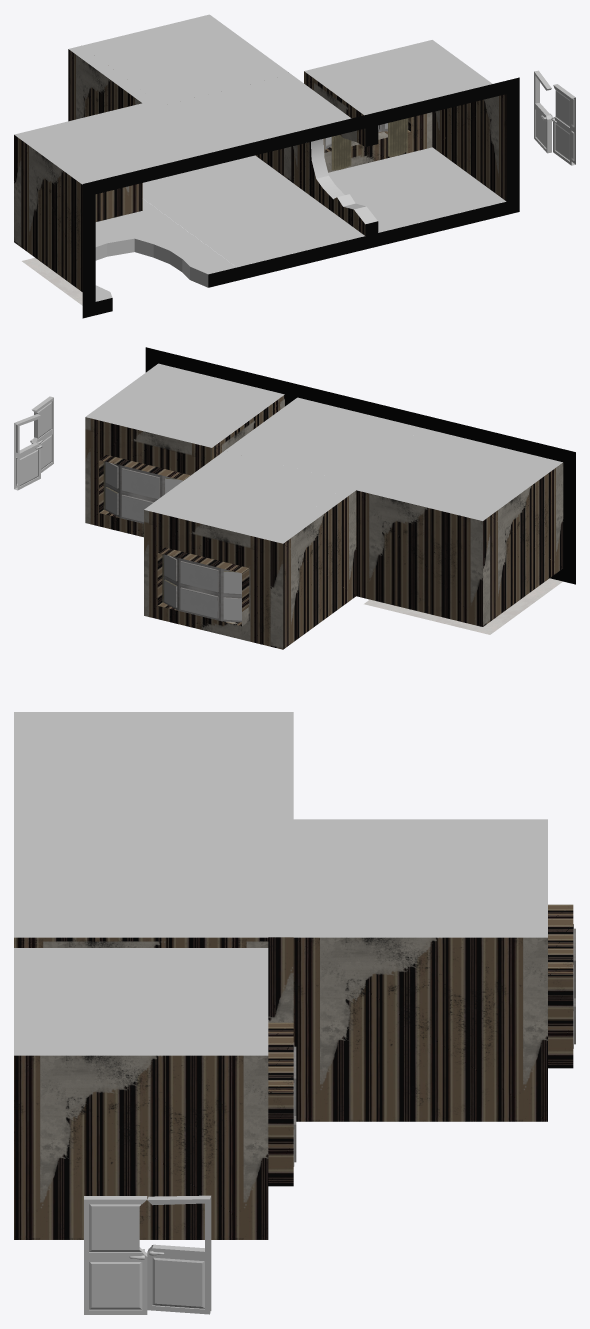
The model's file is Ruined Structures.fbx.
3 renders of one model, top to bottom at view 1: azimuth 30°, elevation 25°; view 2: azimuth 150°, elevation 25°; view 3: azimuth 270°, elevation 25°, orthographic. The views are drawn at different scales.
Parts seen in each view (by area): view 1: Ceiling_hotelroom.027, Floor_hotelroom.031, Floor_hotelroom.033, Ceiling_hotelroom.026, Ceiling_hotelroom.029, Ceiling_hotelroom.028, Wall_Hotelroom.049, Wall_Hotelroom.054, Ceiling_hotelroom.034, Wall_Hotelroom.062, Floor_hotelroom.032, Wall_Window_hotelroom.015 (+21 smaller); view 2: Wall_Window_hotelroom.012, Wall_Hotelroom.048, Wall_Window_hotelroom.015, Ceiling_hotelroom.027, Ceiling_hotelroom.028, Ceiling_hotelroom.029, Ceiling_hotelroom.026, Wall_Hotelroom.050, Wall_Hotelroom.049, Wall_mainfloor.039, Ceiling_hotelroom.034, Transition_Floor.093 (+10 smaller); view 3: Wall_Hotelroom.051, Wall_Hotelroom.054, Ceiling_hotelroom.027, Ceiling_hotelroom.028, Ceiling_hotelroom.029, Ceiling_hotelroom.026, Wall_mainfloor.039, Wall_Window_hotelroom.015, Wall_Window_hotelroom.012, Ceiling_skinny_hotelroom.027, Ceiling_skinny_hotelroom.029, Ceiling_skinny_hotelroom.026 (+3 smaller).
Part boxes in pixels (<box>): Ceiling_hotelroom.027: <box>81,14,283,99</box>; Floor_hotelroom.031: <box>163,182,364,267</box>; Floor_hotelroom.033: <box>328,147,506,232</box>; Ceiling_hotelroom.026: <box>22,108,209,184</box>; Ceiling_hotelroom.029: <box>304,40,492,115</box>; Ceiling_hotelroom.028: <box>163,74,351,149</box>; Wall_Hotelroom.049: <box>21,140,82,291</box>; Wall_Hotelroom.054: <box>432,94,506,201</box>; Ceiling_hotelroom.034: <box>22,216,223,305</box>; Wall_Hotelroom.062: <box>291,71,377,235</box>; Floor_hotelroom.032: <box>142,155,283,207</box>; Wall_Window_hotelroom.015: <box>323,112,432,172</box>; Wall_Window_hotelroom.012: <box>144,510,270,646</box>; Wall_Hotelroom.048: <box>356,490,482,626</box>; Wall_Window_hotelroom.015: <box>85,417,211,537</box>; Ceiling_hotelroom.027: <box>144,456,343,540</box>; Ceiling_hotelroom.028: <box>225,397,423,481</box>; Ceiling_hotelroom.029: <box>86,363,284,447</box>; Ceiling_hotelroom.026: <box>364,431,562,515</box>; Wall_Hotelroom.050: <box>283,490,356,649</box>; Wall_Hotelroom.049: <box>490,462,563,621</box>; Wall_mainfloor.039: <box>14,396,53,490</box>; Ceiling_hotelroom.034: <box>364,578,562,634</box>; Transition_Floor.093: <box>436,418,563,461</box>; Wall_Hotelroom.051: <box>293,937,547,1121</box>; Wall_Hotelroom.054: <box>14,1055,268,1239</box>; Ceiling_hotelroom.027: <box>293,830,547,937</box>; Ceiling_hotelroom.028: <box>14,830,268,937</box>; Ceiling_hotelroom.029: <box>14,948,268,1055</box>; Ceiling_hotelroom.026: <box>14,712,268,819</box>; Wall_mainfloor.039: <box>84,1195,211,1314</box>; Wall_Window_hotelroom.015: <box>268,1022,296,1186</box>; Wall_Window_hotelroom.012: <box>548,904,575,1068</box>; Ceiling_skinny_hotelroom.027: <box>268,712,293,819</box>; Ceiling_skinny_hotelroom.029: <box>268,830,293,937</box>; Ceiling_skinny_hotelroom.026: <box>14,819,268,829</box>.
Bounding box in the file's own units: 2007 × 500 × 1106.
